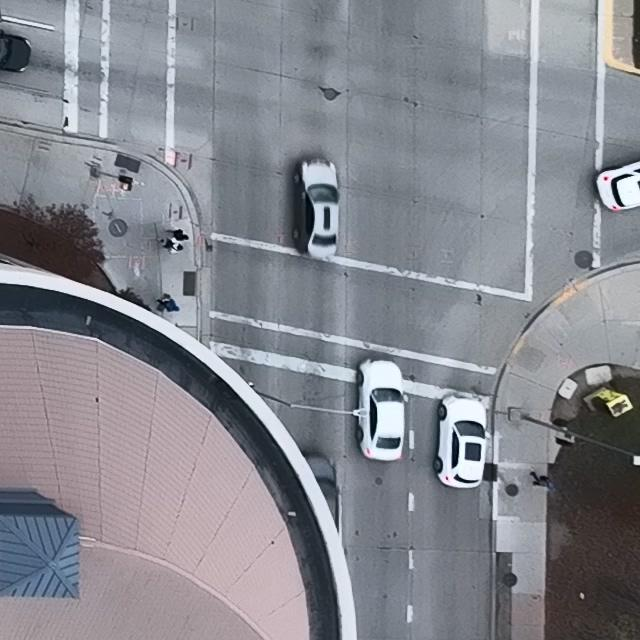car: (433, 393, 490, 488), (356, 358, 408, 461), (294, 159, 340, 260), (596, 159, 640, 212), (0, 27, 32, 72)
